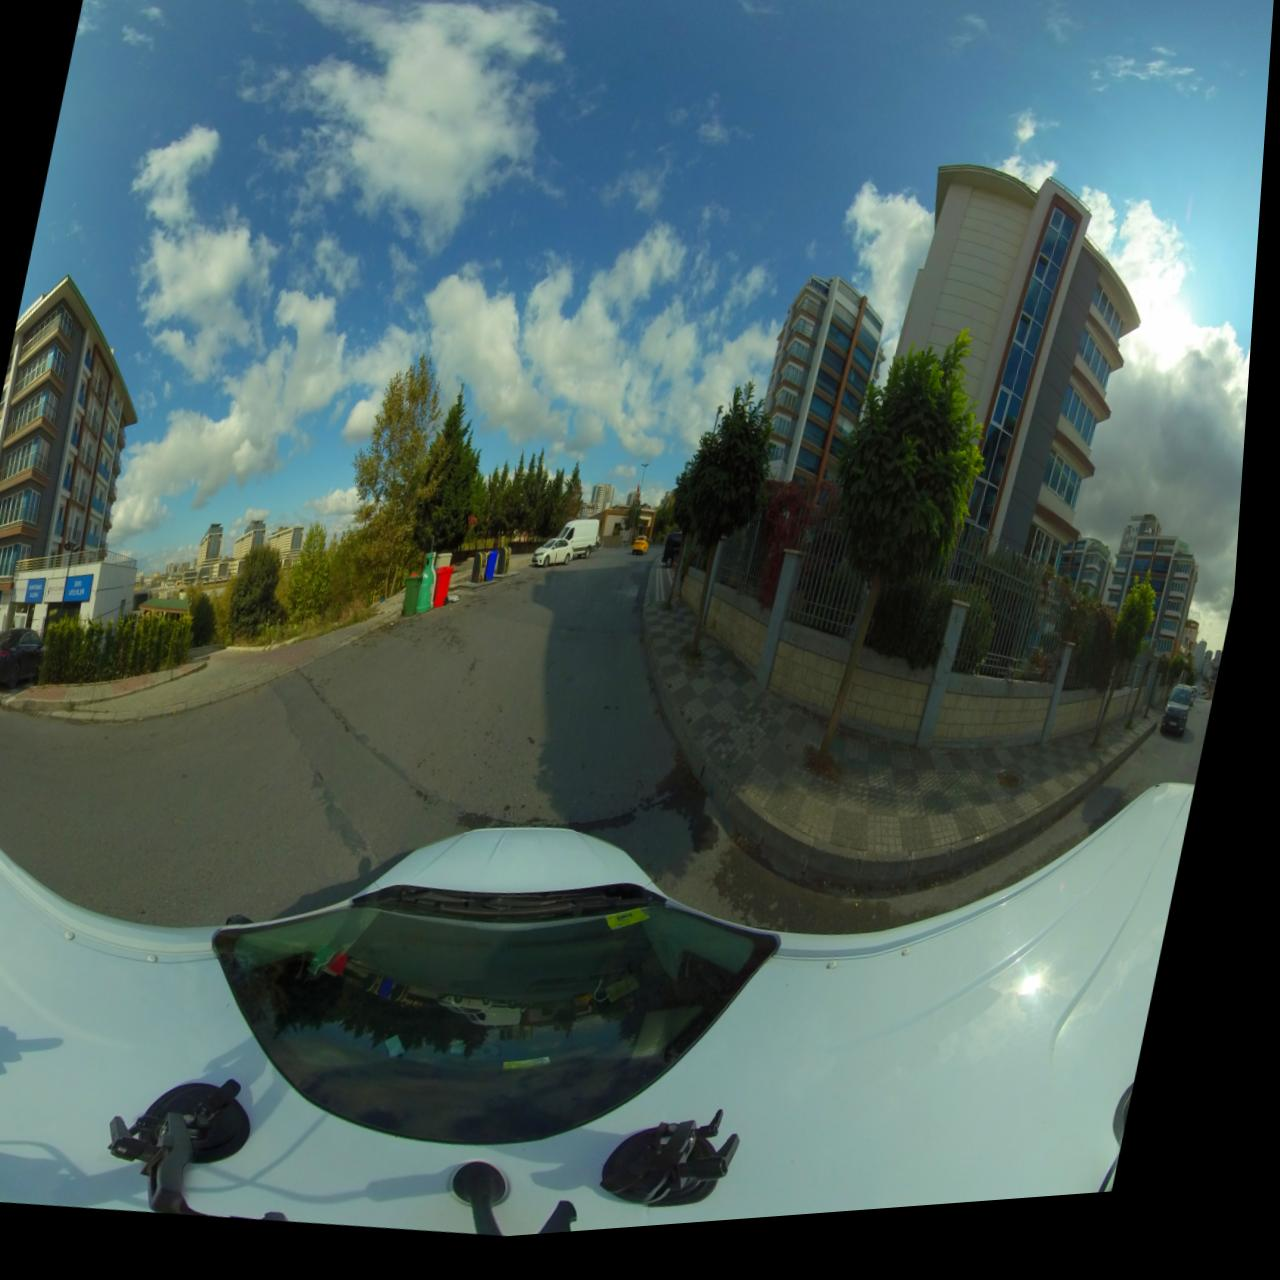SignStore: (52, 576, 101, 604), (19, 579, 54, 604), (0, 591, 9, 601)
